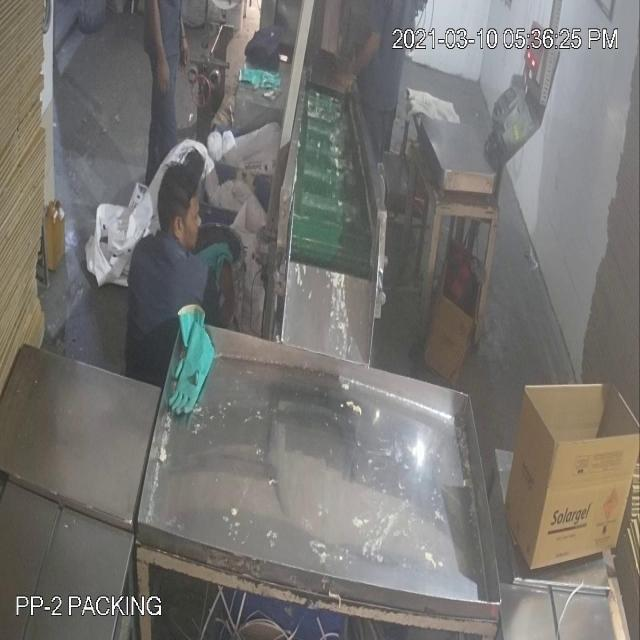No_Gloves: (142, 1, 178, 106)
